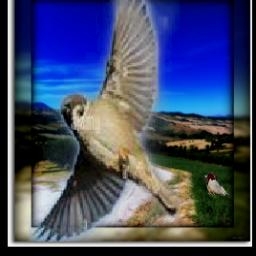Sparrow: (29, 0, 180, 243)
Woodpecker: (203, 173, 231, 197)
